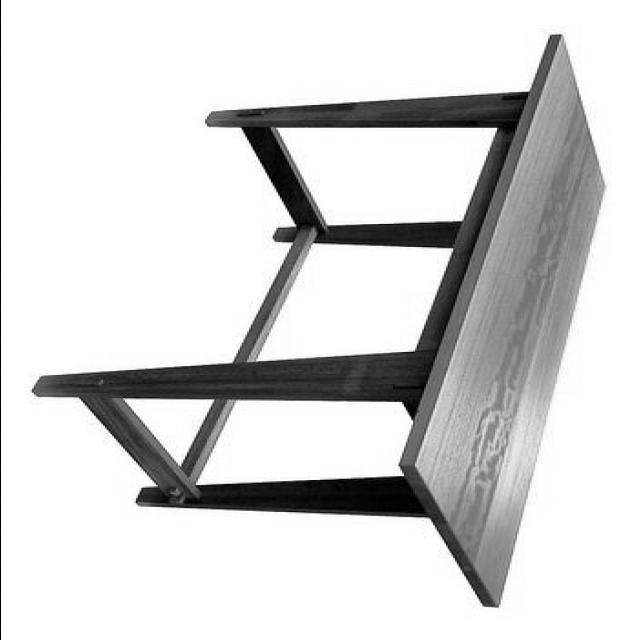table: (29, 29, 604, 608)
